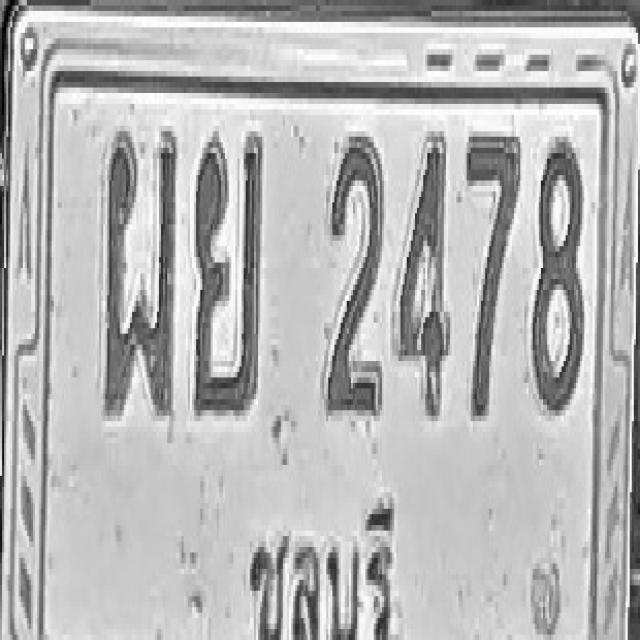2: (324, 134, 384, 418)
37PhorPhueng: (102, 128, 177, 418)
4: (394, 128, 450, 418)
43YorYak: (192, 131, 262, 416)
7: (465, 131, 520, 421)
8: (532, 134, 583, 413)
Chonburi: (239, 475, 392, 640)
